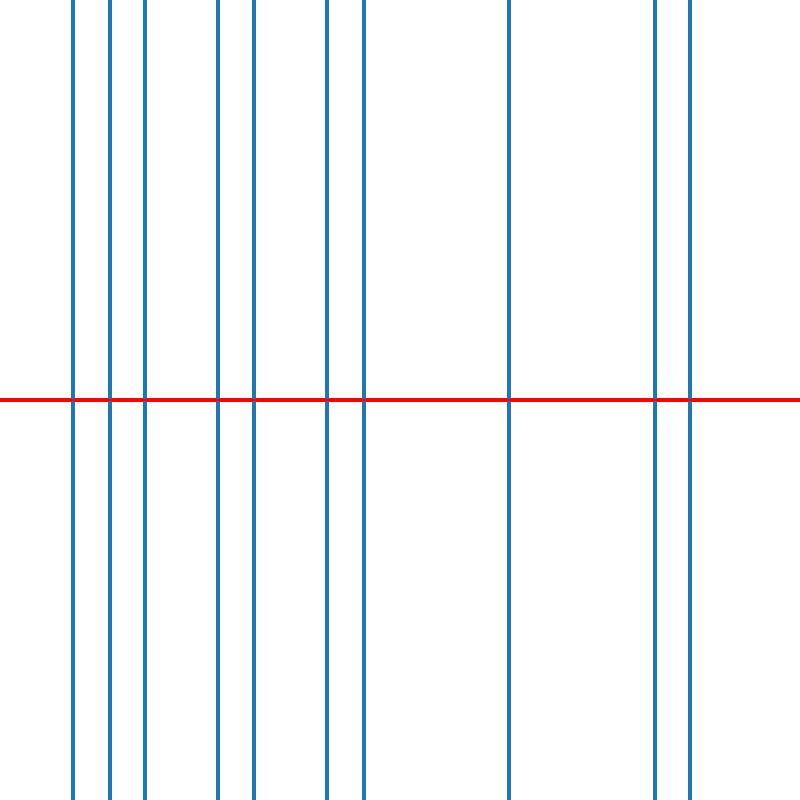root: (250, 396, 258, 404), (650, 396, 658, 404), (141, 396, 149, 404), (360, 396, 367, 404), (505, 396, 512, 404), (214, 396, 221, 404), (69, 396, 76, 404), (105, 396, 112, 404), (687, 396, 694, 404), (323, 396, 330, 404)
